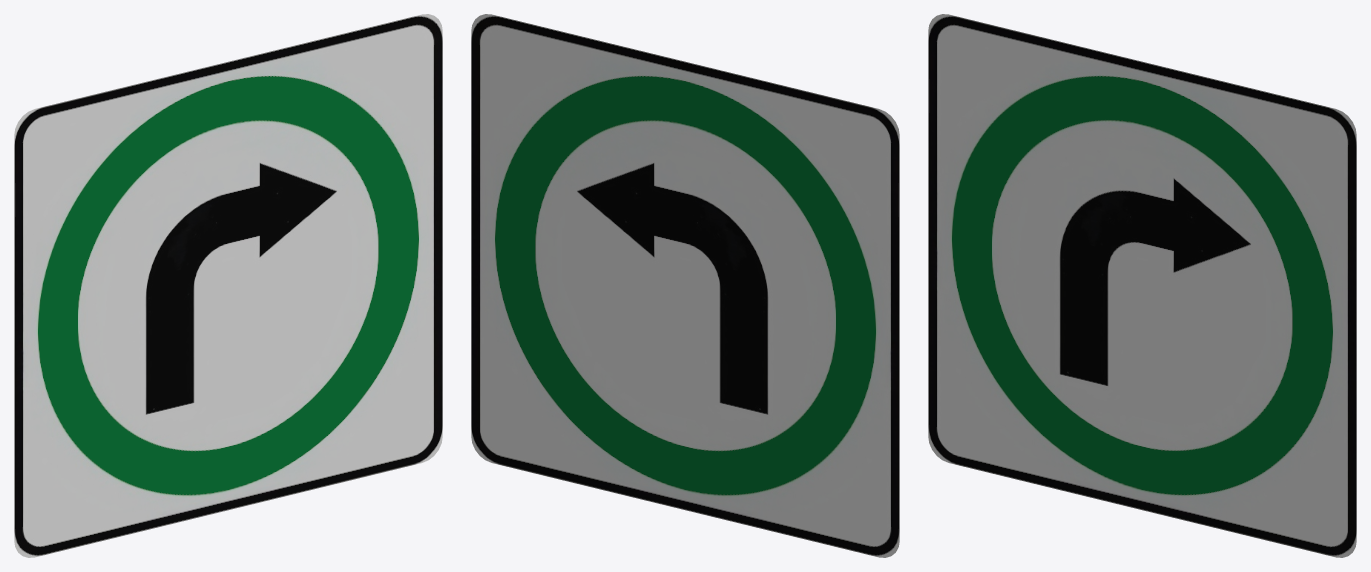
Rendered from verde_right.gltf.
3 views of the same model, side by side, from view 1: azimuth 30°, elevation 25°; view 2: azimuth 150°, elevation 25°; view 3: azimuth 330°, elevation 25° (orthographic).
Parts seen in each view (by area): view 1: verde_right; view 2: verde_right; view 3: verde_right.
Boxes of the visible parts, left/top/right/bottom form: verde_right: left=14, top=14, right=442, bottom=557; verde_right: left=471, top=14, right=899, bottom=557; verde_right: left=928, top=14, right=1356, bottom=557.
Bounding box in the file's own units: 1.51 × 1.51 × 3.36e-16.
Materials: 1 (1 with a texture image).
